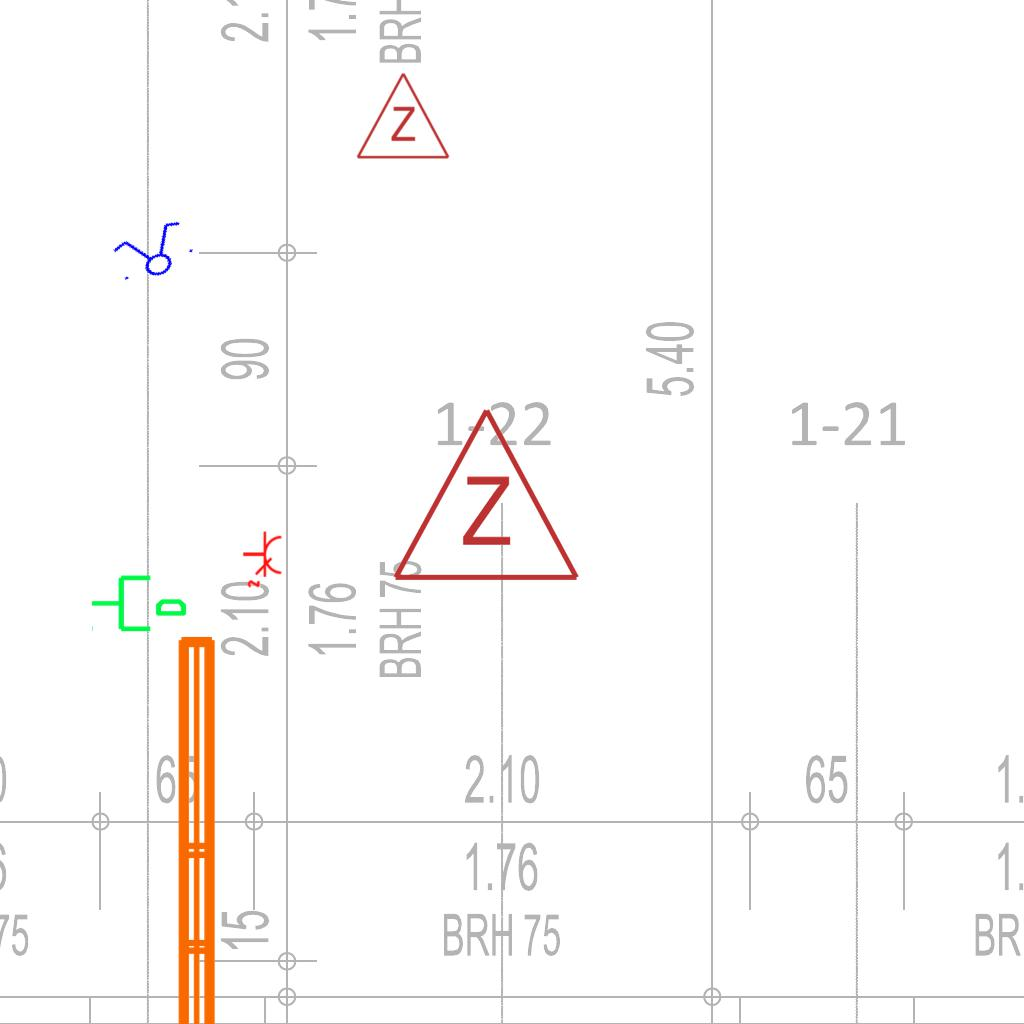Ambulanz_Pendelleuchte_LED: (166, 626, 278, 1024)
Datenanschluss_einfach: (89, 567, 189, 636)
Schukosteckdose_mehrfach: (240, 529, 284, 589)
Serienschalter: (104, 214, 202, 292)
Zimmersignalleuchte: (386, 395, 582, 595), (353, 66, 451, 166)
